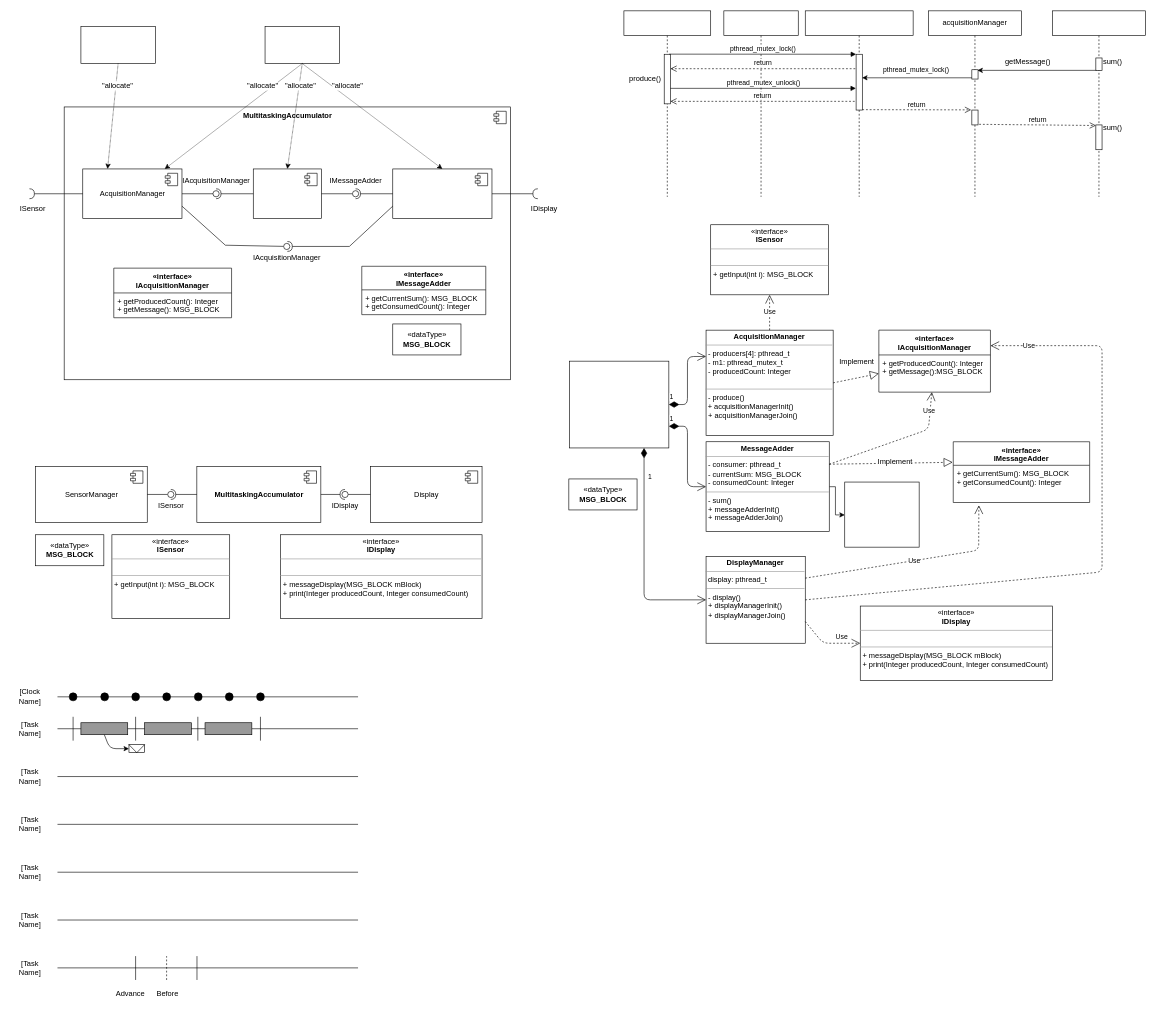
The diagram is 1162 pixels wide and 1014 high, and some of its shapes have lost their labels. The box of each missing label's shape, as (x1, y1, x2, y2) in pixels:
consumer:pthread_t: (1052, 10, 1145, 197)
DisplayManager: (392, 168, 492, 219)
Exigence X: (80, 26, 155, 64)
Exigence Y: (264, 26, 339, 64)
m1: pthread_mutex_t: (805, 10, 913, 197)
MessageAdder: (253, 168, 321, 219)
Msg - messageAdd() - messageCheck(): (844, 481, 919, 547)
MultitaskingAccumulator + main(): (569, 361, 669, 448)
producer1:pthread_t: (623, 10, 711, 197)
producer2:pthread_t: (723, 10, 798, 197)
